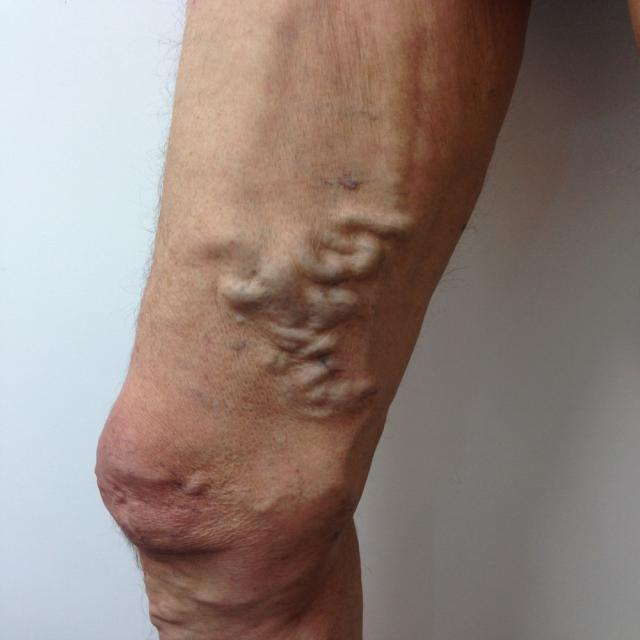Varicose: (102, 81, 523, 514)
